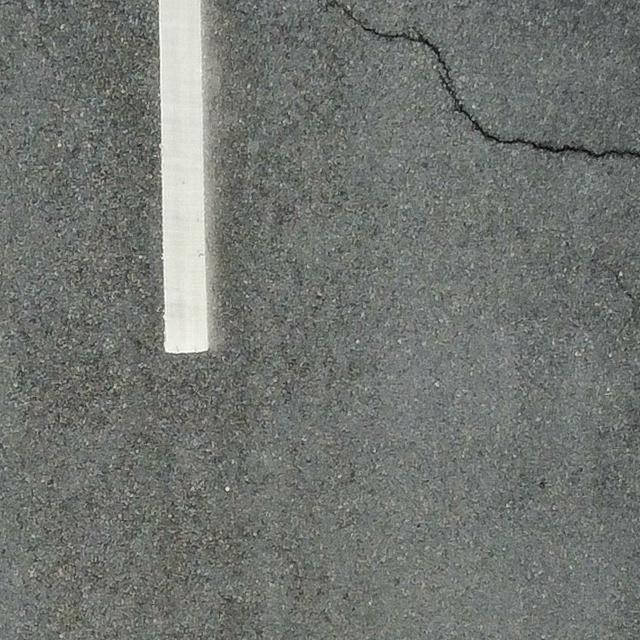TransverseCrack: (327, 1, 640, 160)
